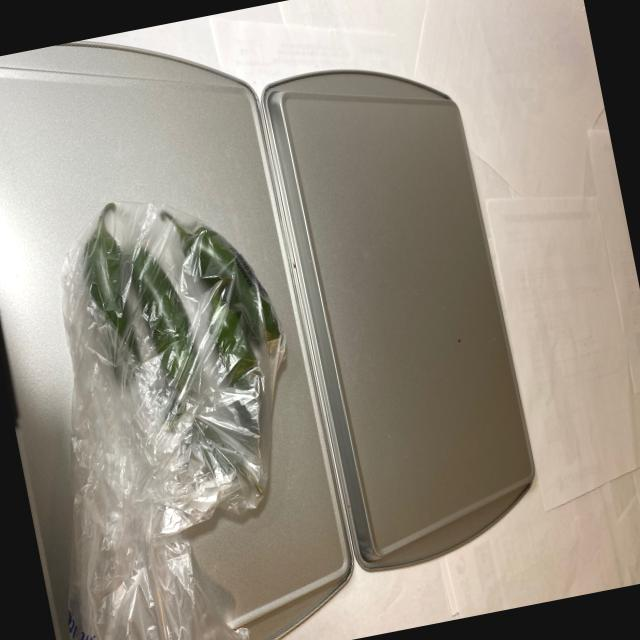chilli: (52, 175, 317, 524)
